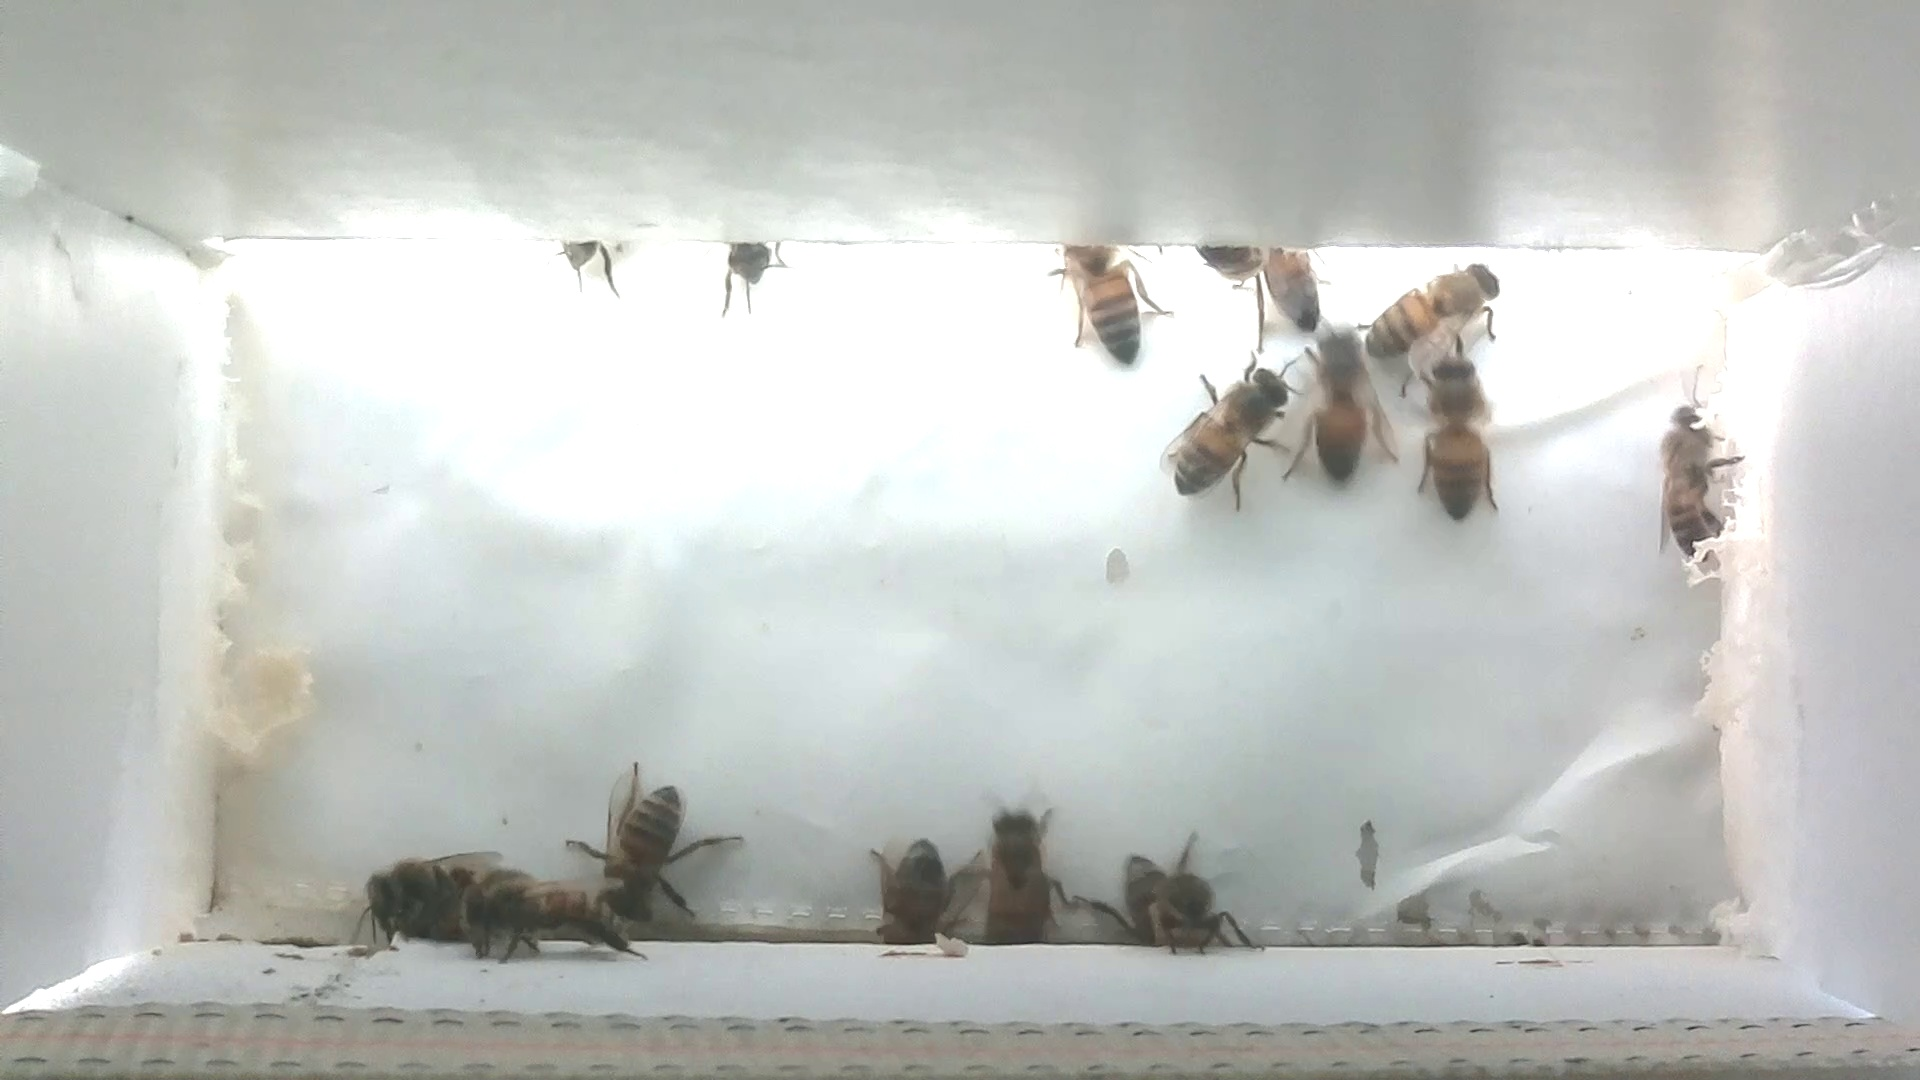bee: (571, 754, 741, 934), (1159, 339, 1291, 520), (1278, 314, 1400, 496), (1639, 375, 1745, 578), (1404, 339, 1514, 526), (1040, 231, 1171, 378), (454, 866, 645, 967), (851, 822, 975, 971), (1354, 260, 1509, 375), (969, 794, 1077, 956), (345, 843, 489, 959), (1131, 862, 1255, 968), (1236, 228, 1335, 345), (711, 233, 799, 323)
